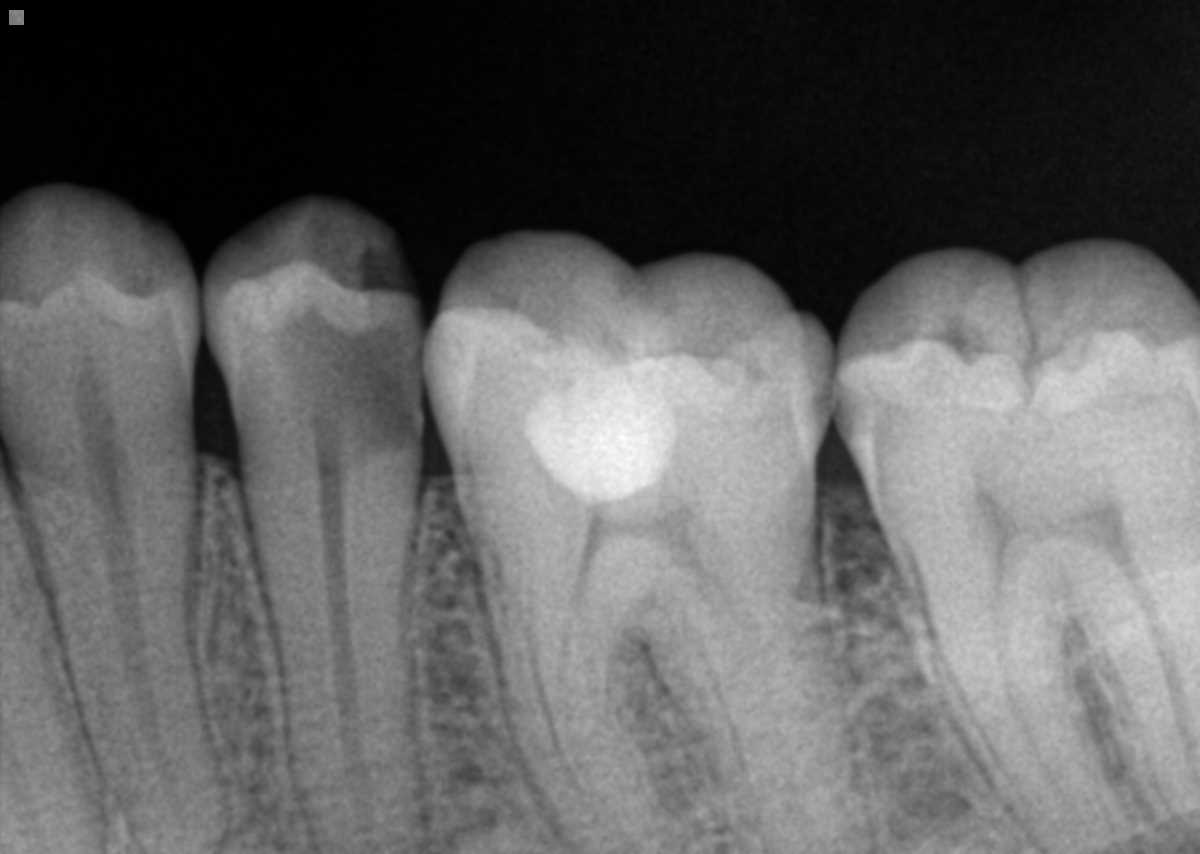Distal Canal: (1116, 545, 1198, 765), (701, 574, 765, 643)
Distal Root: (645, 529, 874, 853), (1083, 510, 1200, 831)
Main Canal: (90, 464, 201, 854), (319, 496, 381, 852), (562, 582, 585, 688)
Main Root: (12, 458, 230, 854), (240, 481, 427, 854)
Mesial Canal: (995, 567, 1098, 841)
Mesial Root: (915, 574, 1144, 852), (489, 565, 692, 852)
decay: (277, 314, 422, 458)
